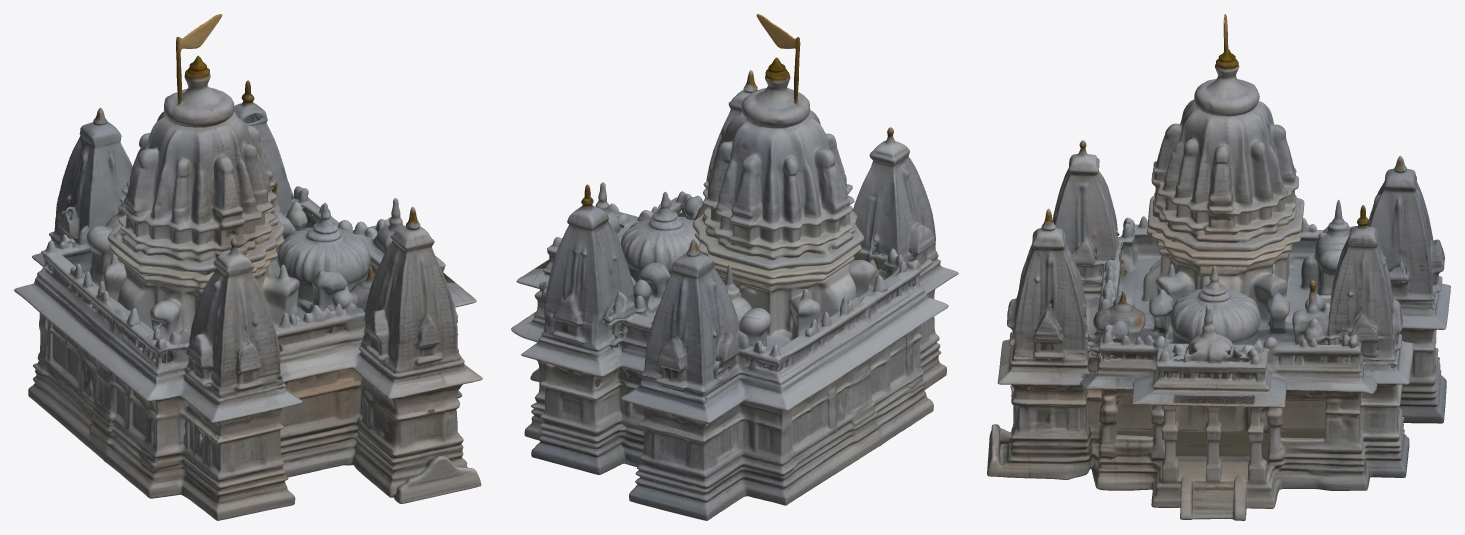
File: ranakpur_temple.glb
The picture shows the model from 3 angles, left to right: view 1: azimuth 30°, elevation 25°; view 2: azimuth 150°, elevation 25°; view 3: azimuth 270°, elevation 25°; orthographic projection. The views are drawn at different scales.
Visible parts, largest first — view 1: tripo_node_4b4144fa-c80a-43cb-a5ca-51dbed681e5f; view 2: tripo_node_4b4144fa-c80a-43cb-a5ca-51dbed681e5f; view 3: tripo_node_4b4144fa-c80a-43cb-a5ca-51dbed681e5f.
Boxes of the visible parts, x1,y1,x2,y2 form: tripo_node_4b4144fa-c80a-43cb-a5ca-51dbed681e5f: (14,14,482,520); tripo_node_4b4144fa-c80a-43cb-a5ca-51dbed681e5f: (511,14,958,520); tripo_node_4b4144fa-c80a-43cb-a5ca-51dbed681e5f: (987,14,1450,520).
Size of the model in its own units: 0.8402 by 0.9473 by 1.
Materials: 1 (1 with a texture image).
